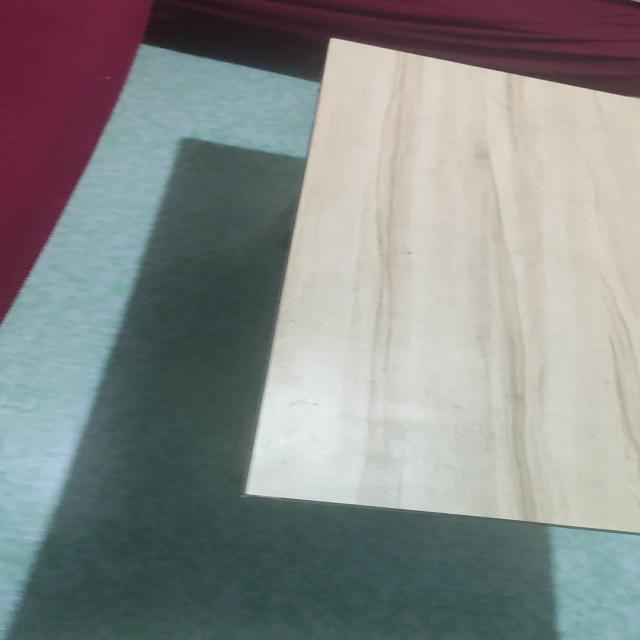table: (221, 37, 640, 564)
